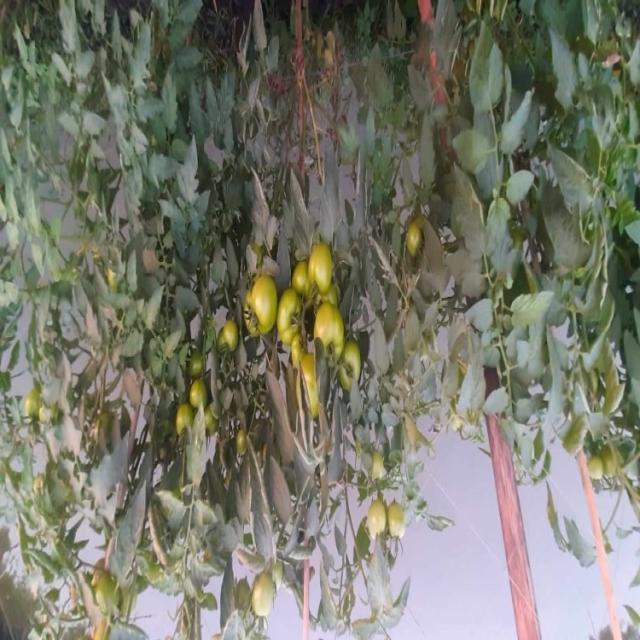tomato: (243, 273, 289, 345), (310, 302, 353, 366), (305, 246, 351, 303), (290, 258, 333, 318), (251, 567, 297, 621), (281, 302, 318, 365), (336, 343, 381, 391), (184, 353, 215, 400), (226, 317, 258, 362), (172, 398, 213, 432), (585, 456, 619, 497), (286, 338, 318, 378), (29, 382, 61, 420), (397, 226, 426, 262), (365, 503, 391, 539), (387, 498, 409, 531)
